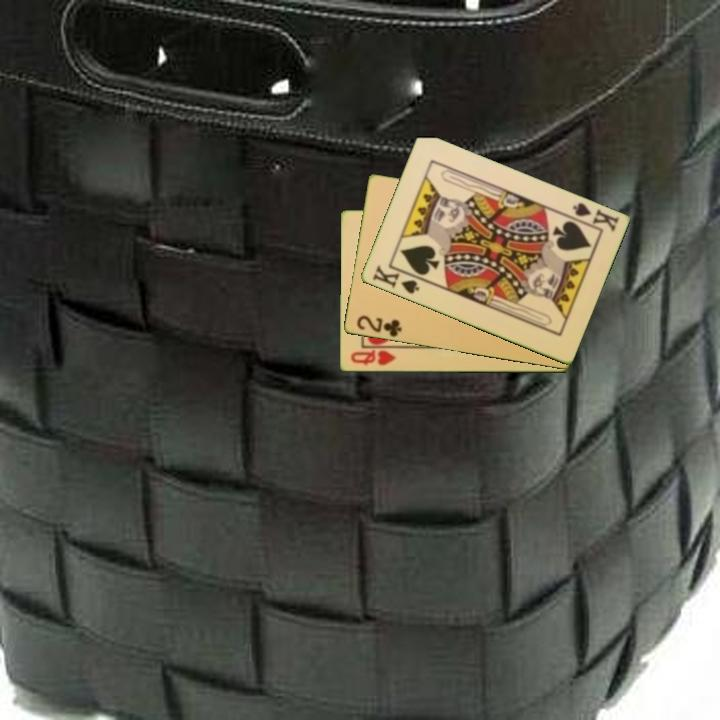2c: (353, 312, 404, 340)
Ks: (564, 199, 622, 235), (369, 262, 425, 297)
Qh: (347, 347, 398, 368)
